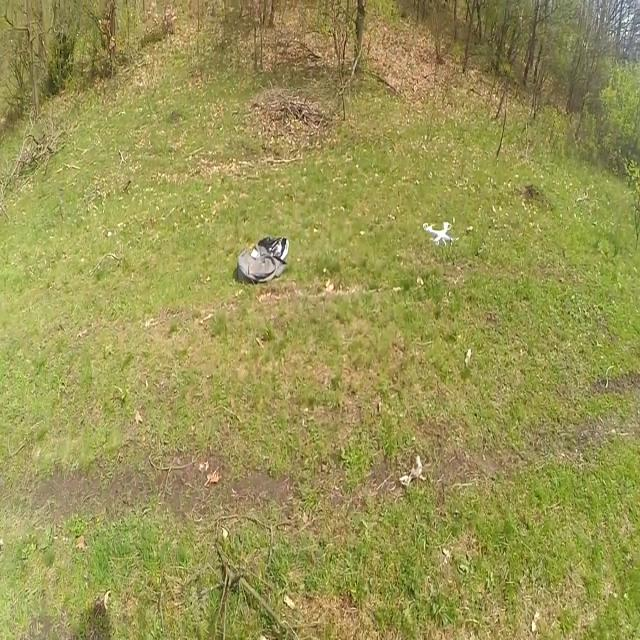drones: (418, 207, 460, 255)
